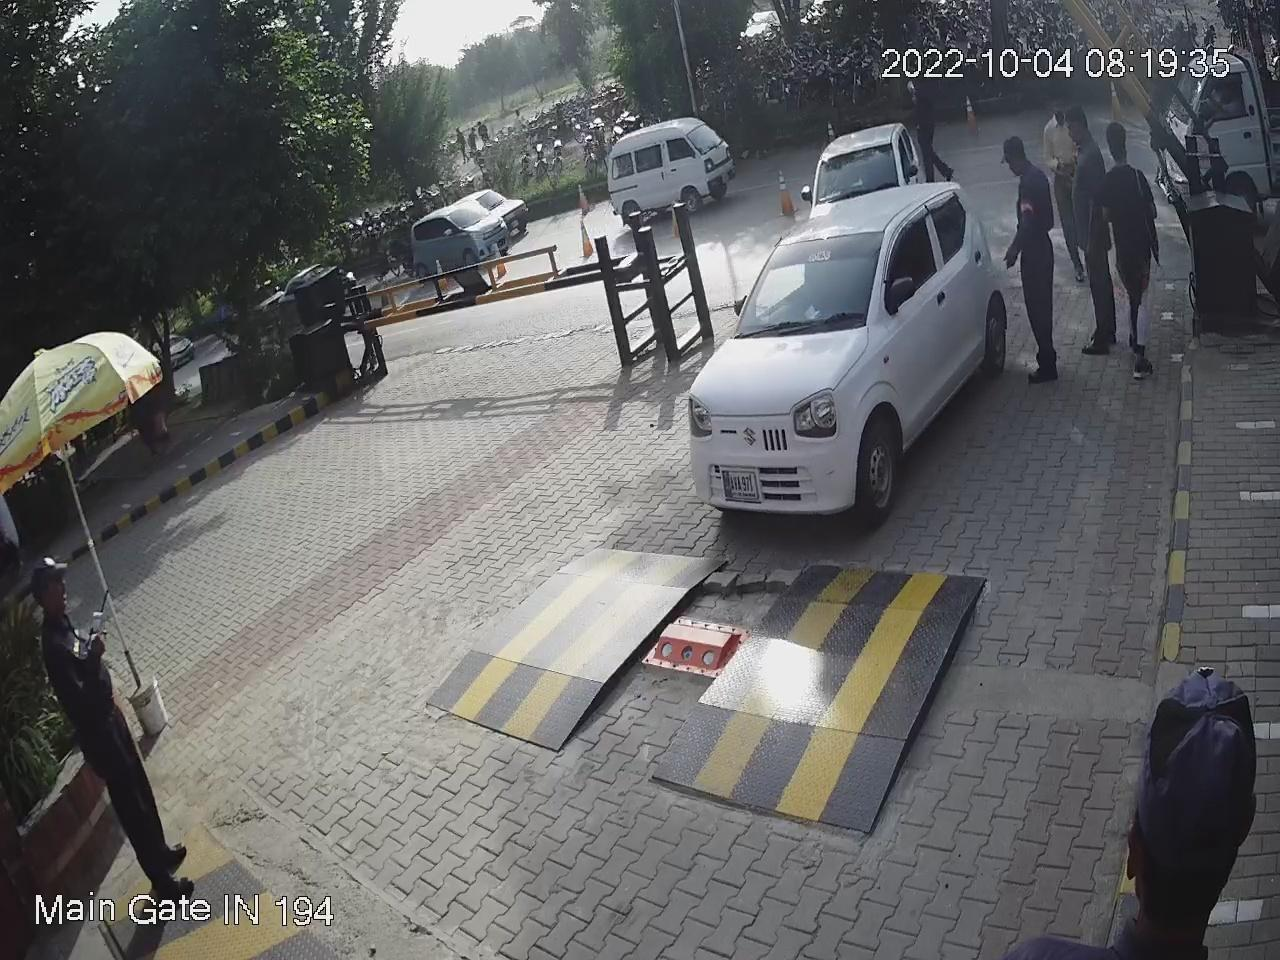windshield: (723, 235, 888, 335)
